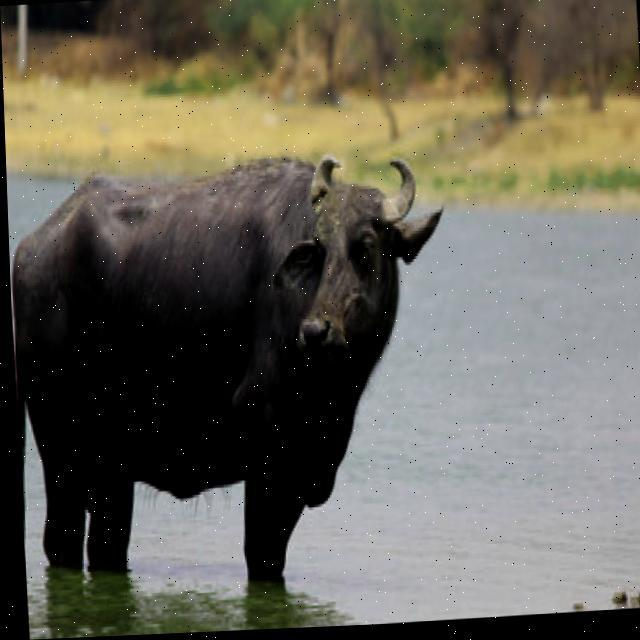Buffalo: (6, 135, 463, 603)
